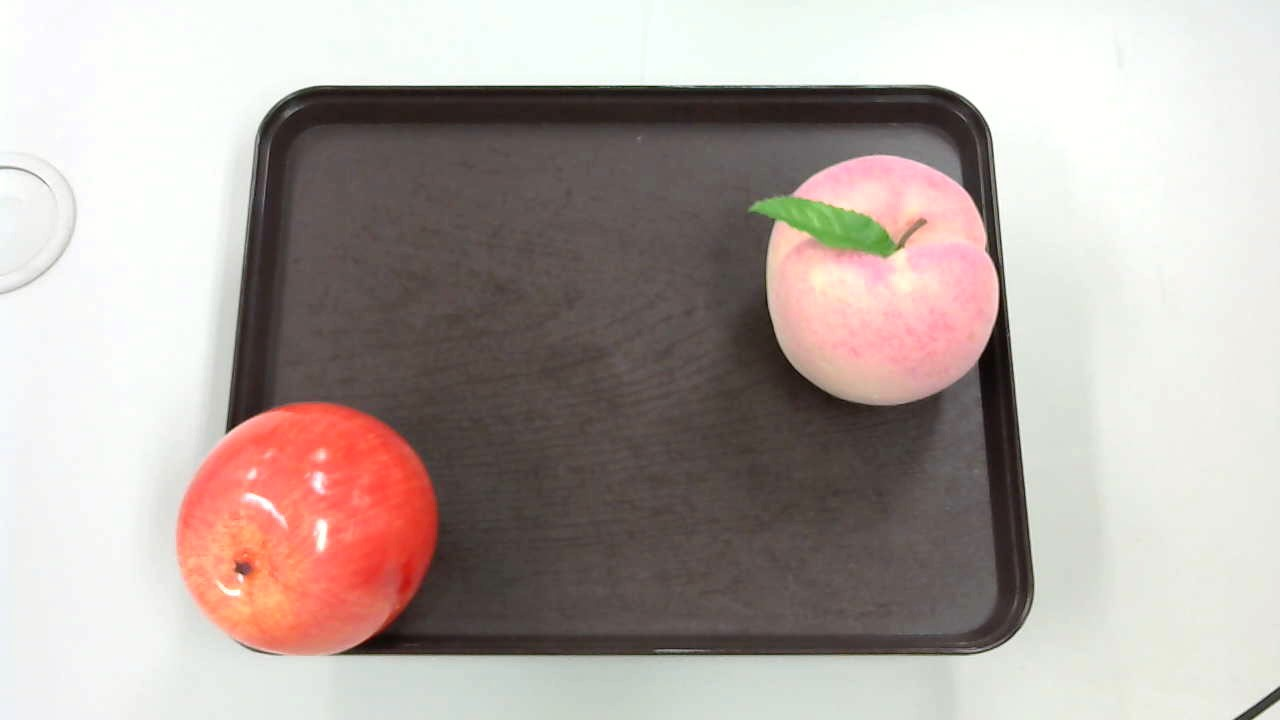peach: (752, 151, 1009, 414)
red apple: (163, 390, 444, 660)
